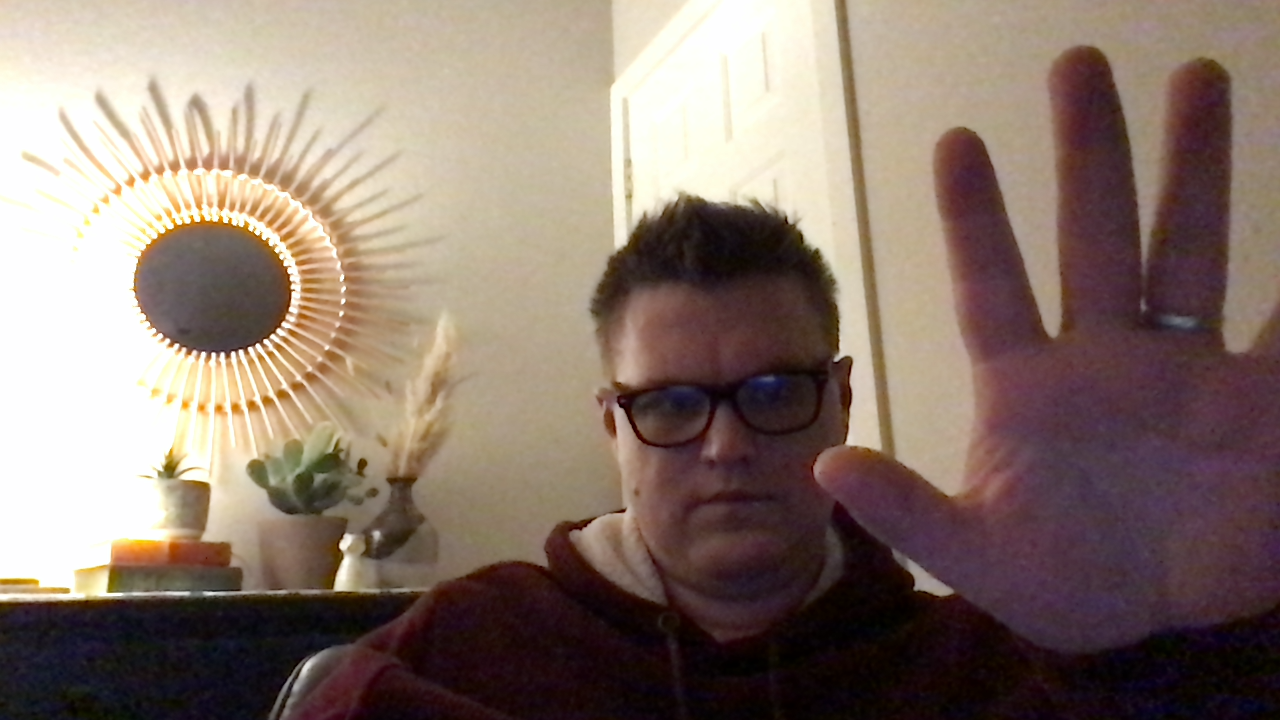hello: (810, 41, 1280, 647)
